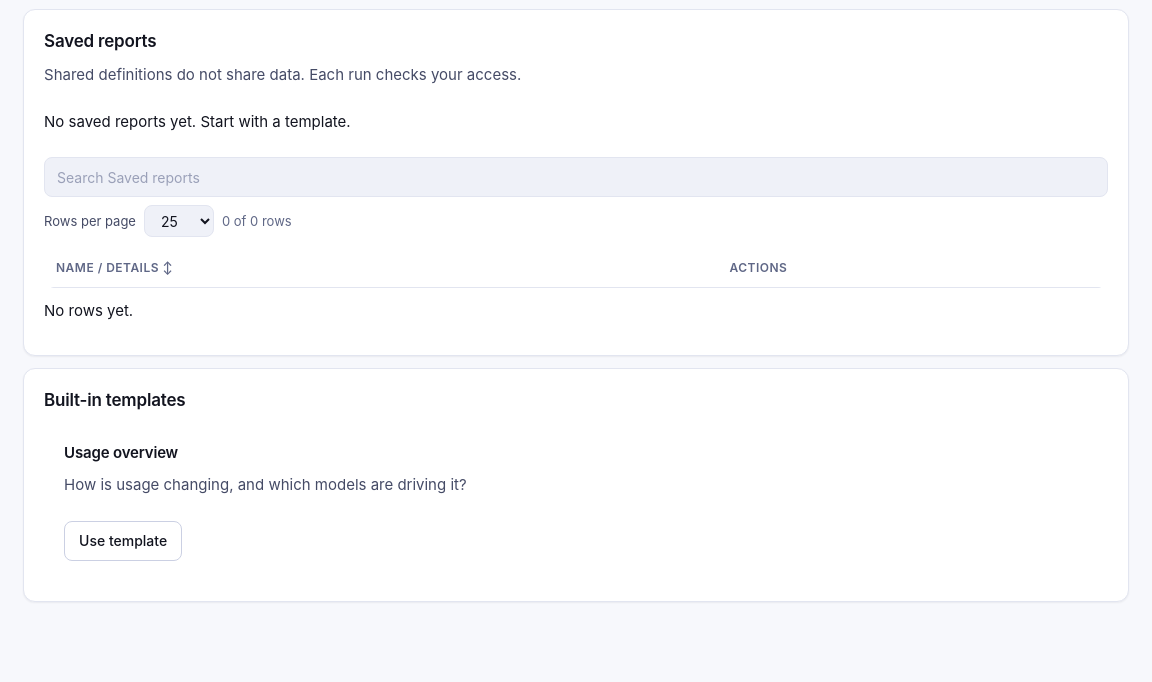
Test: guides template setup with a title preview and optional customization below Generate
(page scrolled)
Click the button with aria-label "Use Usage overview": x=123, y=541 [64,521,182,561]
(page scrolled)
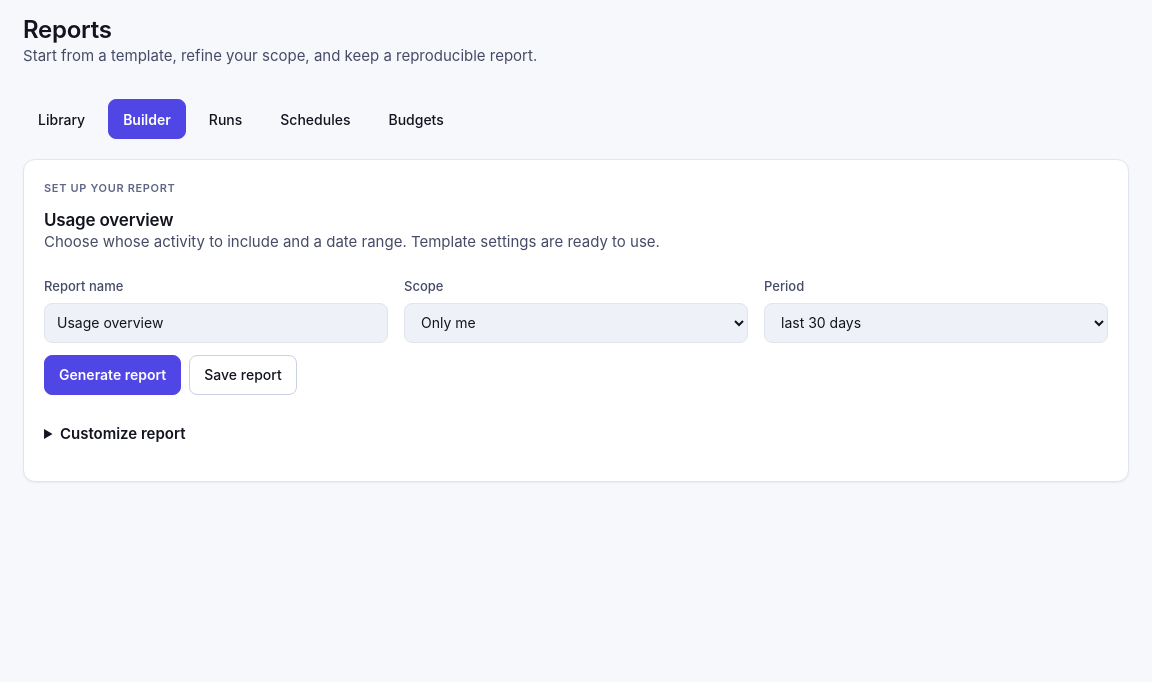
expect the heading "Usage overview" is shown: met, box [44,210,173,230]
Click the heading "Customize report": x=123, y=433 [60,424,186,443]
(page scrolled)
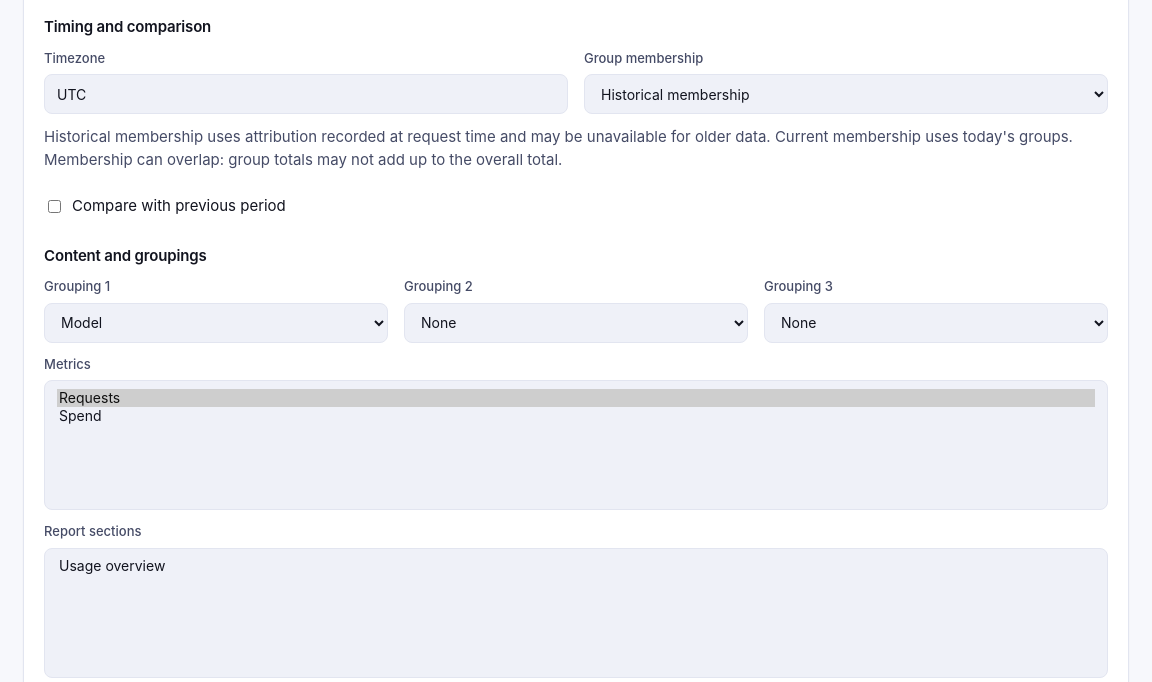
expect the dropdown labelled "Metrics" is shown: met, box [44,380,1108,510]
expect the dropdown labelled "Grouping 1" is shown: met, box [44,303,388,343]
